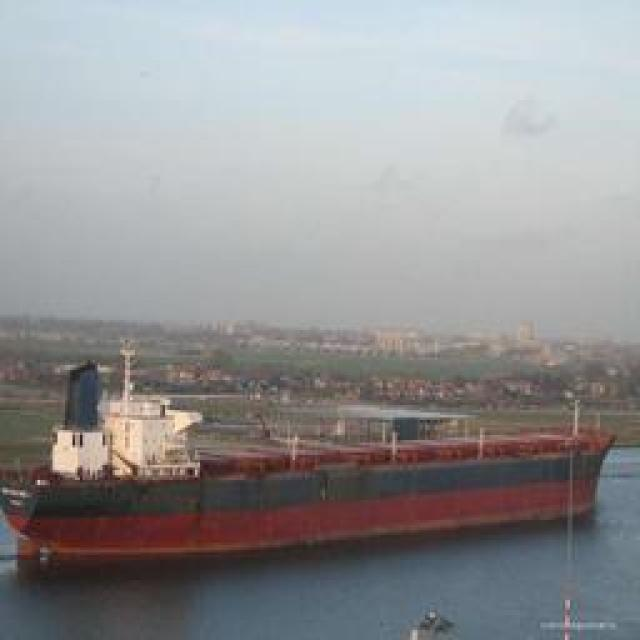CIV_Ship: (0, 396, 628, 569)
